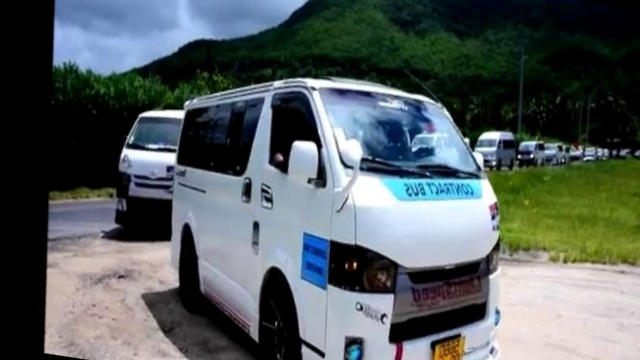van: (123, 22, 552, 360)
